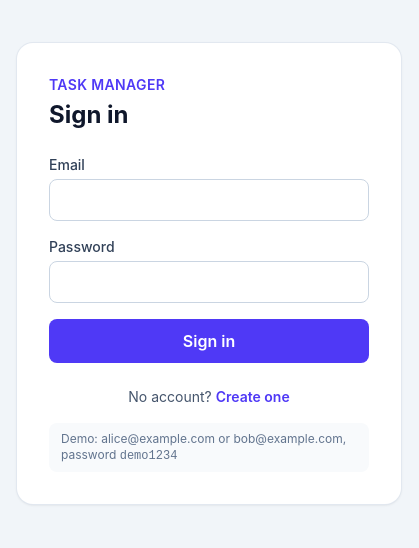
it: shows the backend error when credentials are wrong
Type "alice@example.com" into the field labelled "Email" at (209, 200), box x1=49 y1=178 x2=369 y2=220
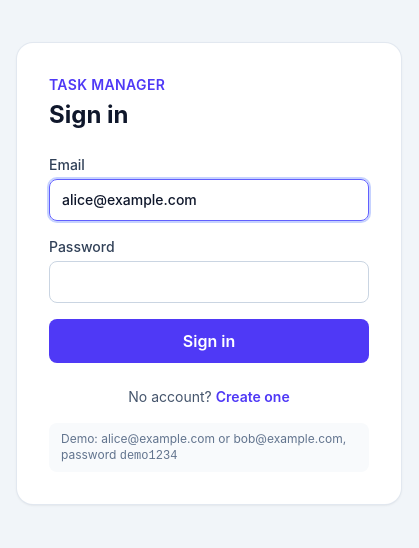
Type "wrong-pass" into the password field labelled "Password" at (209, 282), box x1=49 y1=260 x2=369 y2=302
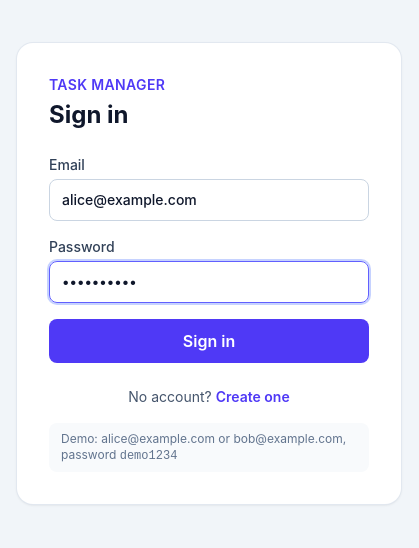
Click the button "Sign in" at (209, 340), box x1=49 y1=318 x2=369 y2=362
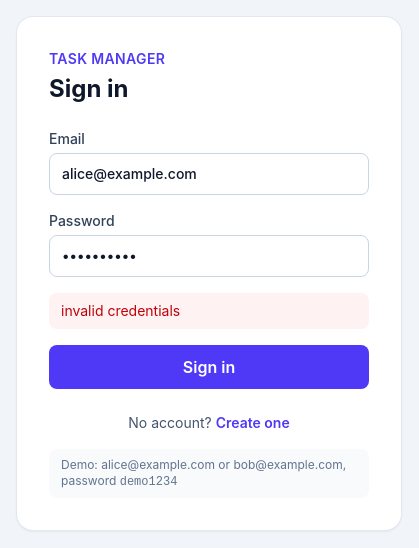
Result: the message reads "invalid credentials" at x1=61 y1=302 x2=180 y2=318
